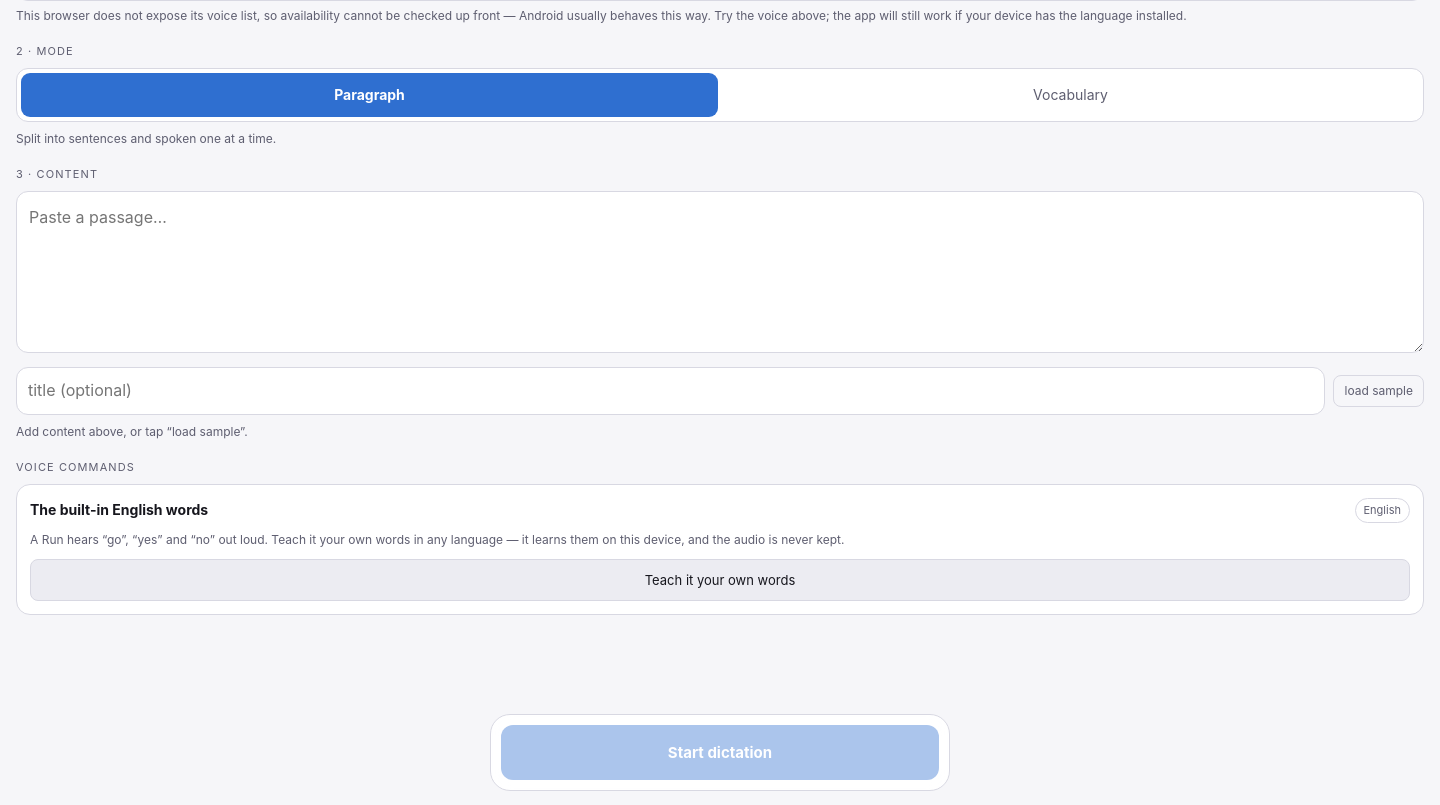
Scenario: the voice commands card › opens the dialog when the card is tapped
(page scrolled)
Click the button "Teach it your own words": (720, 580) [30,559,1410,601]
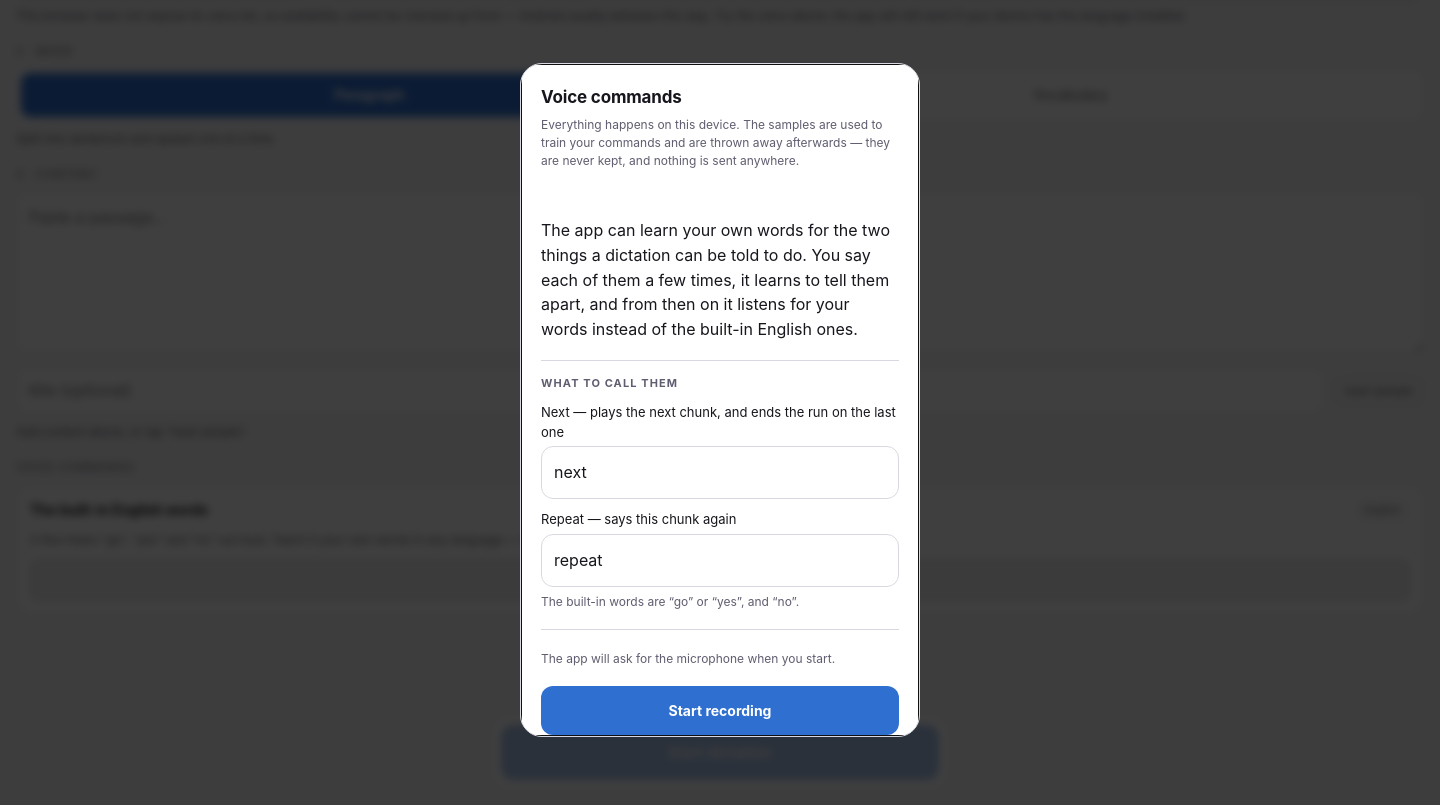
Expected: the dialog "Voice commands" is shown, [520,63,920,737]
